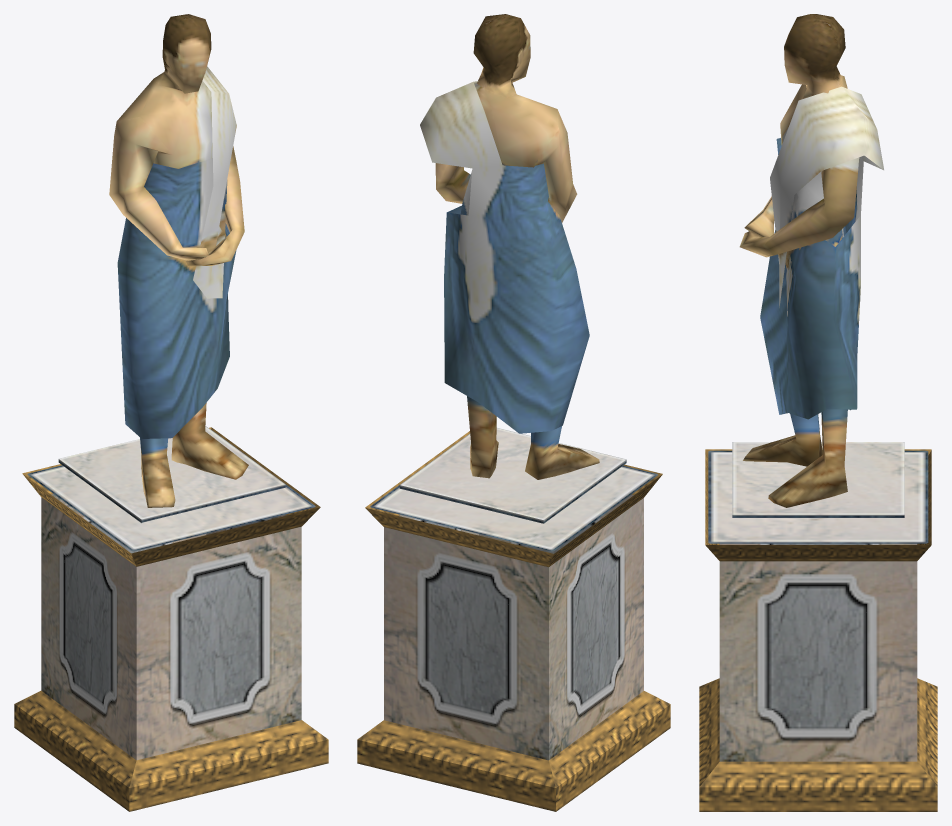
File: rome_statue_5.dae
3 renders of one model, left to right at view 1: azimuth 30°, elevation 25°; view 2: azimuth 150°, elevation 25°; view 3: azimuth 270°, elevation 25°, orthographic. The views are drawn at different scales.
Visible parts, largest first — view 1: rome_statue_5; view 2: rome_statue_5; view 3: rome_statue_5.
Boxes of the visible parts, left/top/right/bottom form: rome_statue_5: left=14, top=14, right=328, bottom=811; rome_statue_5: left=357, top=14, right=670, bottom=811; rome_statue_5: left=699, top=14, right=937, bottom=811.
Size of the model in its own units: 2.7 by 2.7 by 9.4.
